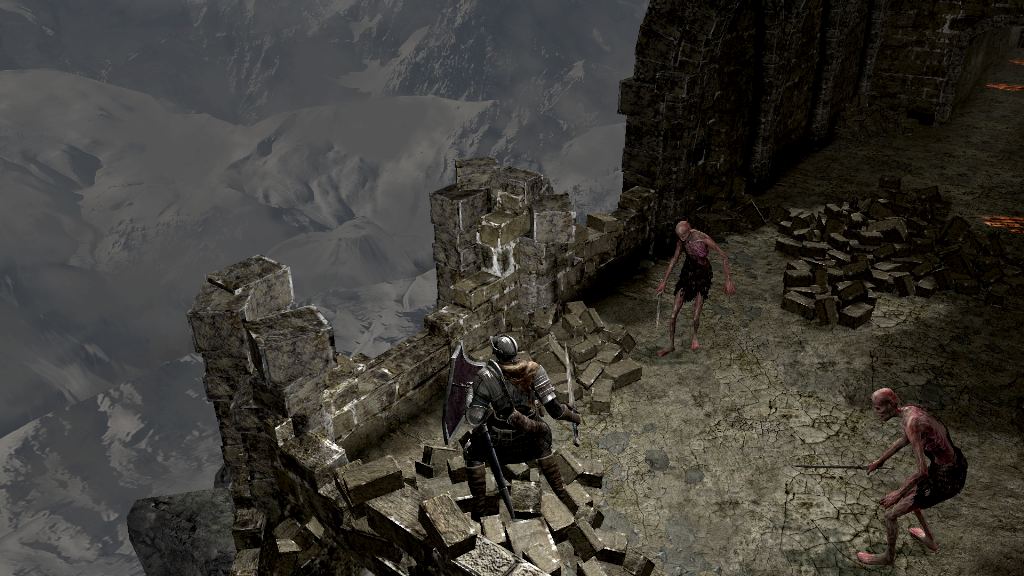hollow: (857, 387, 969, 567), (656, 220, 738, 357)
player: (443, 333, 581, 519)
